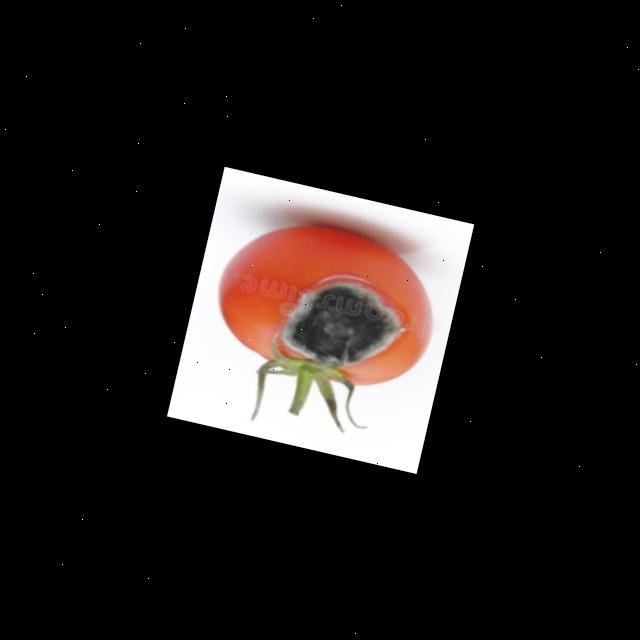tomato: (184, 200, 452, 438)
